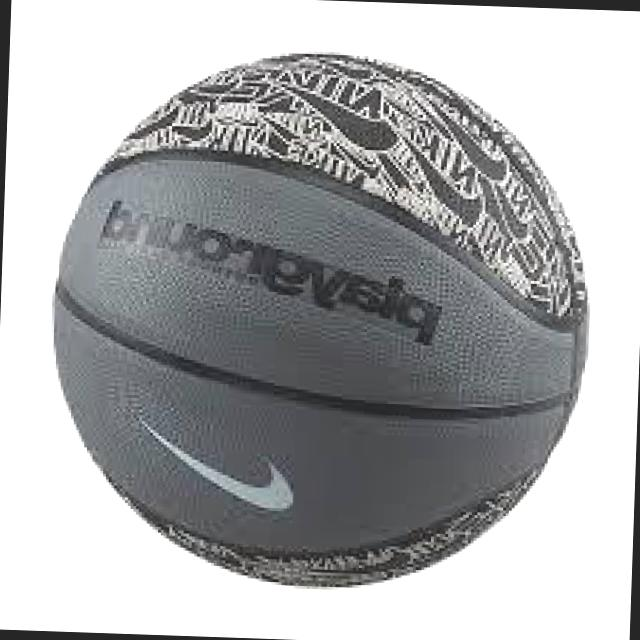ball: (36, 41, 598, 604)
